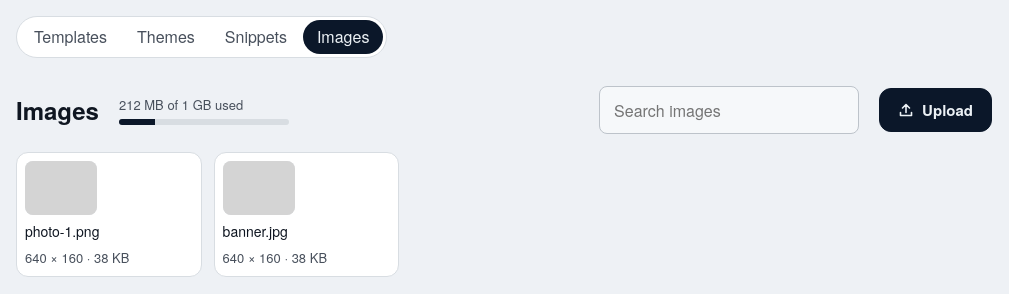
the image library › searches by name
The width and height of the screenshot is (1009, 294).
Type "banner" into the search field labelled "Search images" at coordinates (729, 110), box x1=599 y1=86 x2=859 y2=134
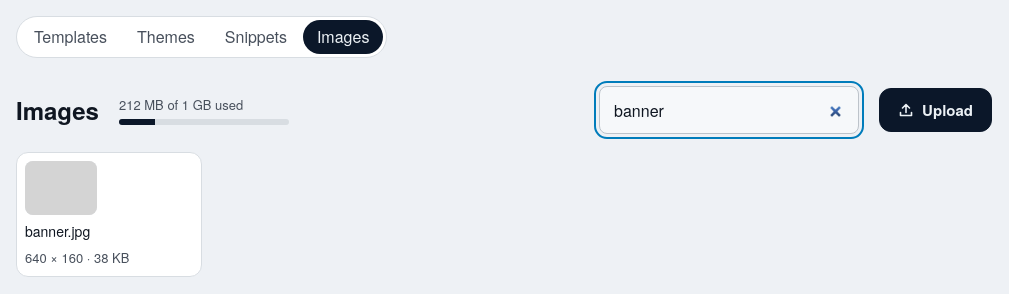
Check: the button "banner.jpg 640 × 160 · 38 KB" is shown, box x1=16 y1=152 x2=202 y2=276
Check: the button "photo-1.png" is gone
